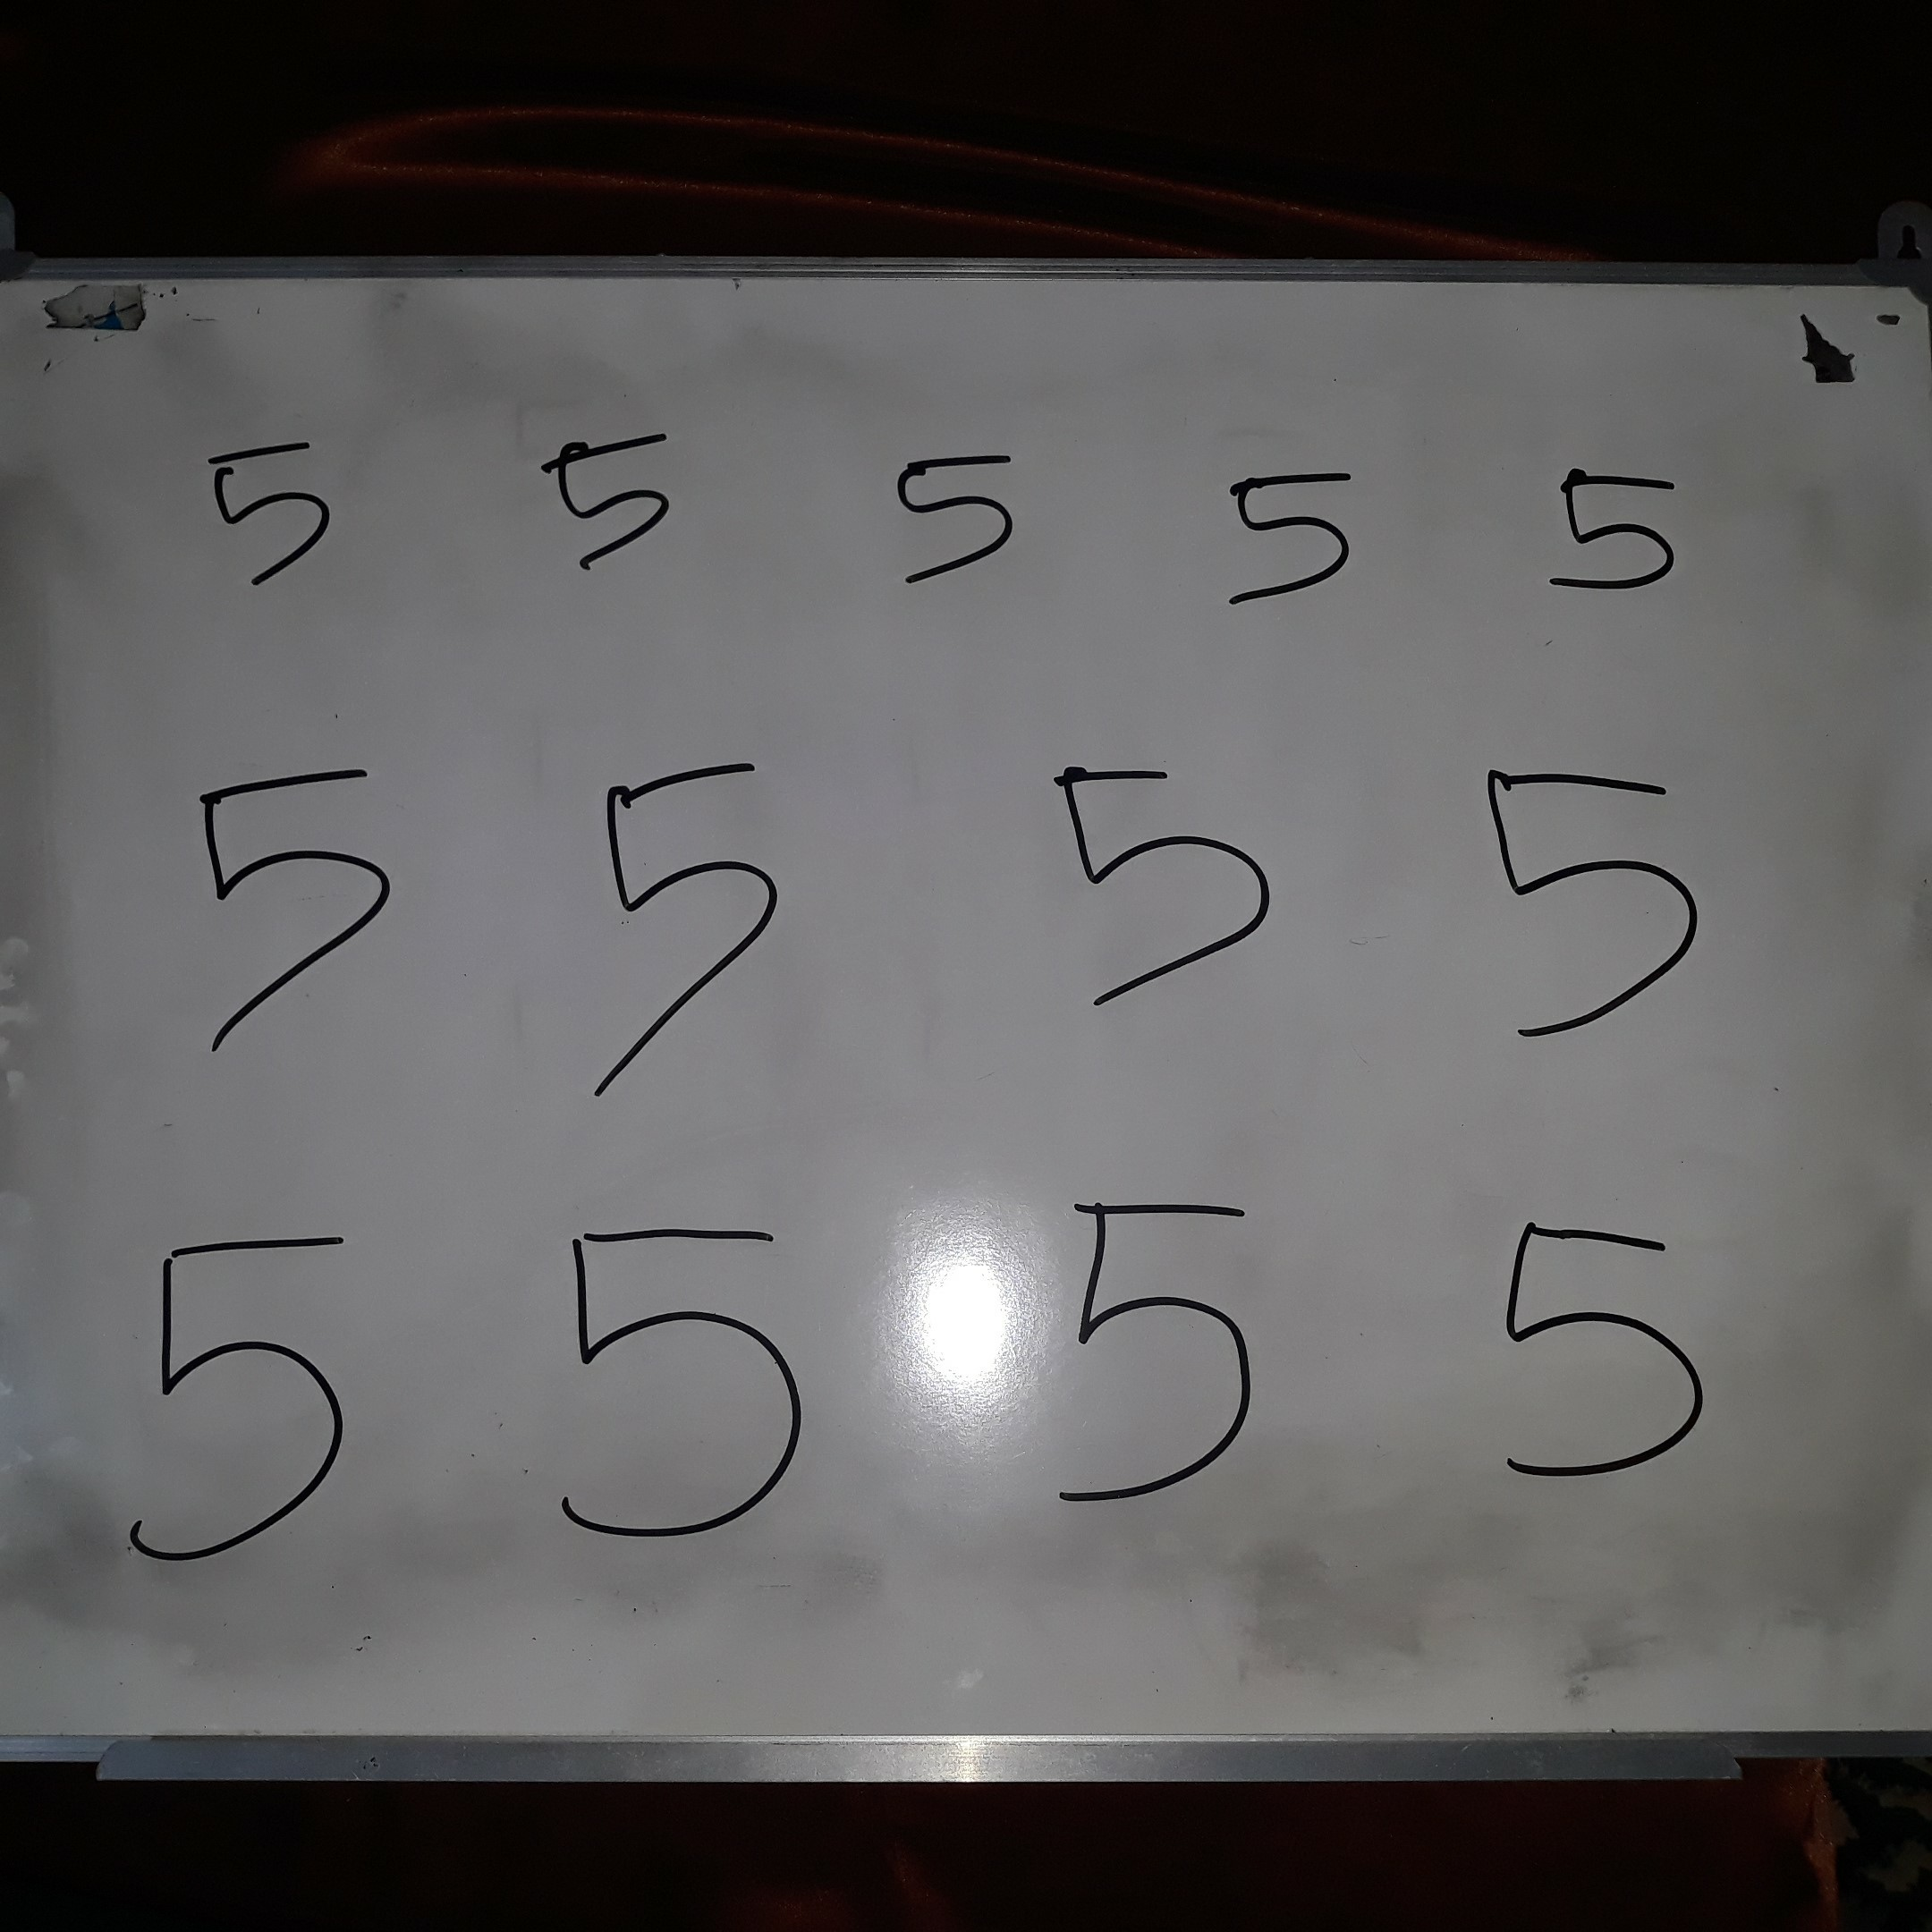num5: (548, 1212, 813, 1570), (116, 1216, 371, 1573), (1037, 1181, 1266, 1525), (174, 741, 409, 1072), (1464, 750, 1711, 1054), (588, 751, 789, 1117), (1491, 1207, 1718, 1496), (1054, 742, 1284, 1014), (877, 434, 1042, 607), (1207, 443, 1373, 616), (1529, 443, 1695, 616), (183, 426, 349, 599), (532, 422, 698, 596)
